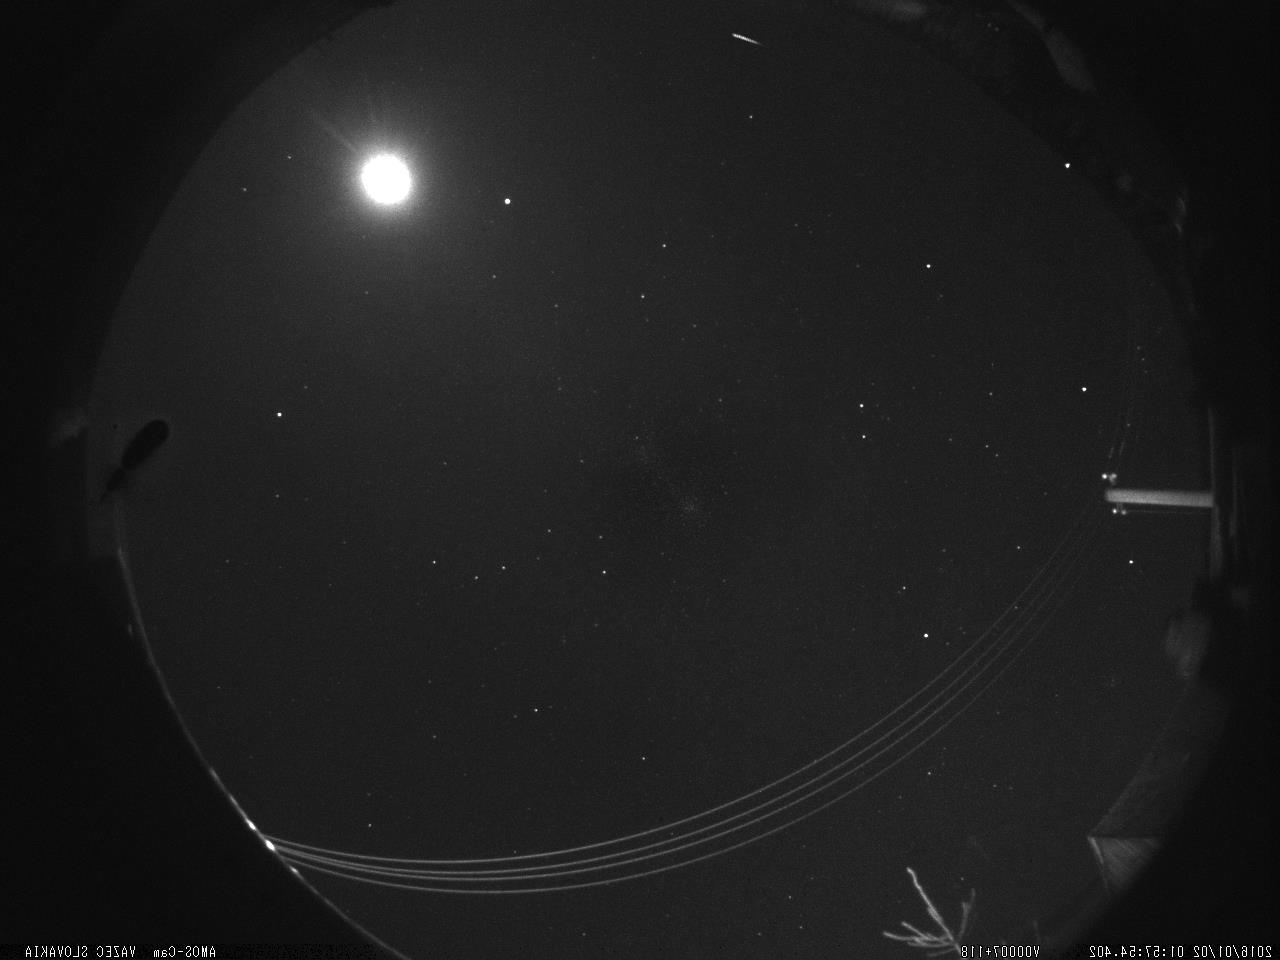meteor: (728, 24, 764, 59)
